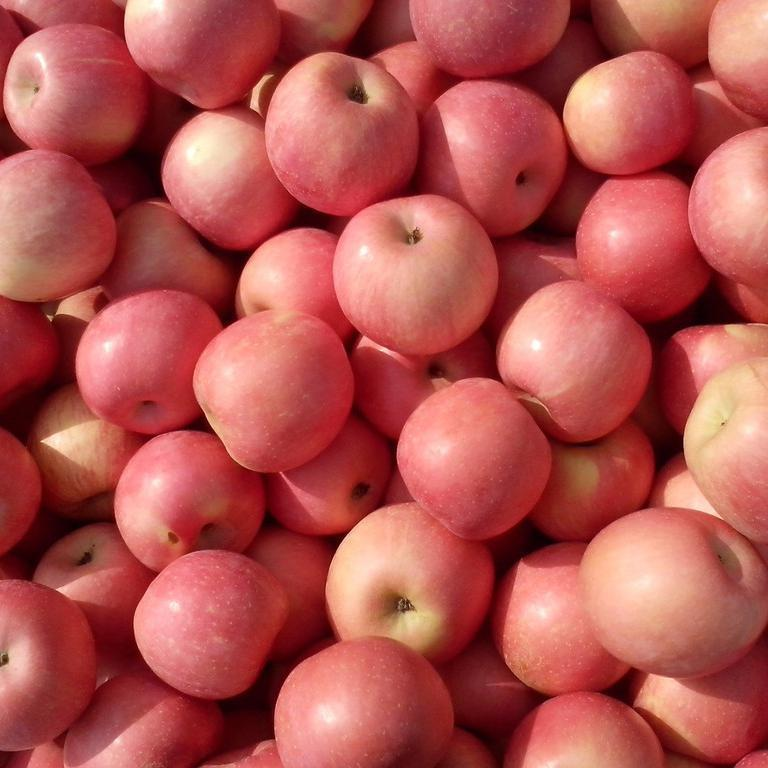apple: (575, 498, 764, 674), (260, 50, 430, 217), (333, 193, 503, 359), (327, 502, 497, 668), (191, 308, 361, 474), (495, 275, 659, 447), (392, 369, 556, 541), (129, 545, 294, 706), (416, 70, 568, 239), (275, 634, 457, 768), (113, 422, 268, 574), (492, 534, 640, 693), (70, 282, 211, 435), (573, 169, 714, 322), (4, 21, 151, 163), (155, 103, 296, 249), (1, 149, 120, 305), (1, 572, 101, 755), (122, 1, 282, 112), (561, 45, 695, 177), (563, 47, 697, 179), (687, 365, 768, 553), (503, 690, 665, 768)
